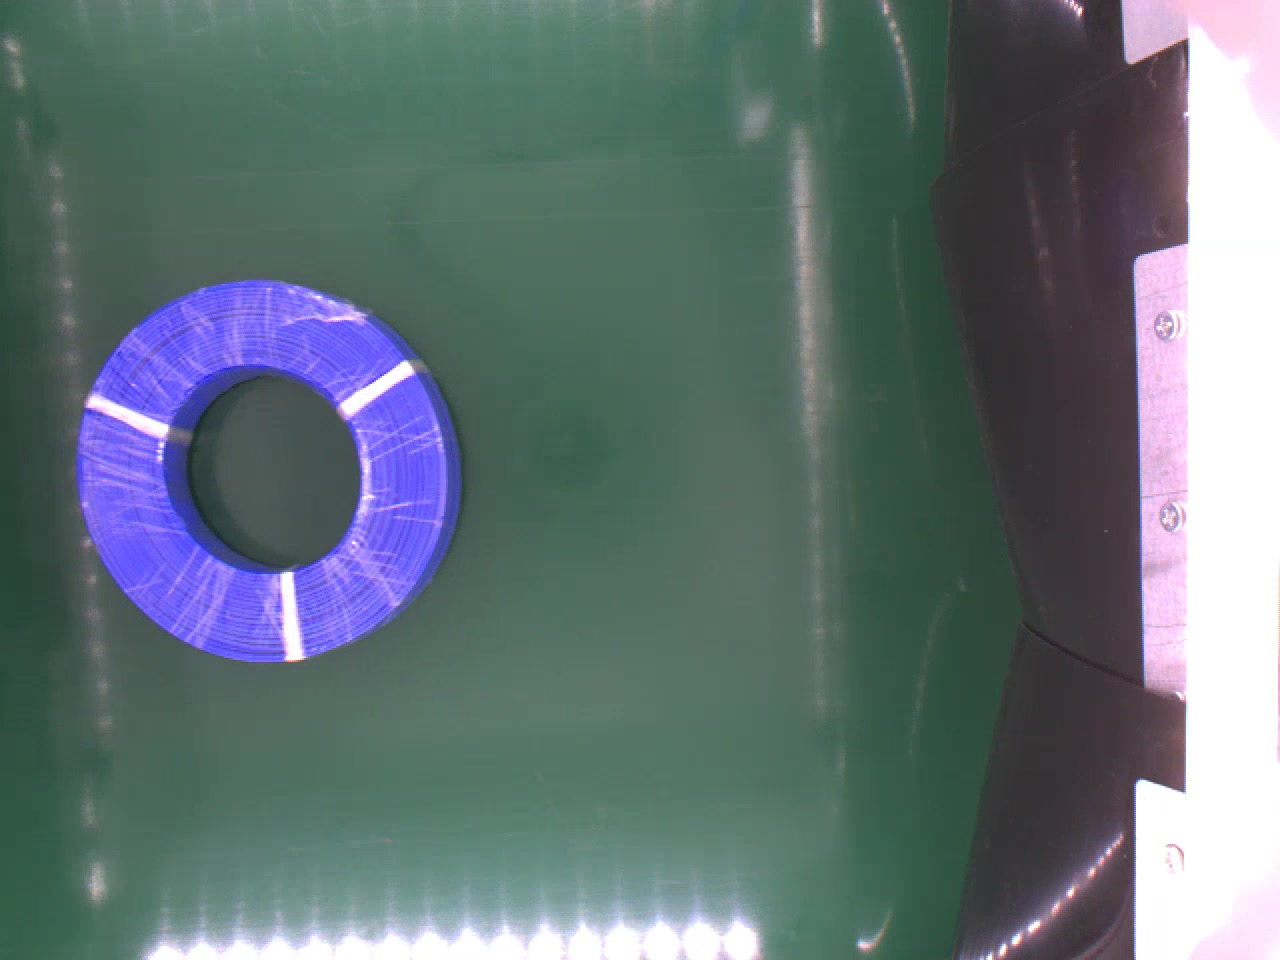blue: (80, 281, 462, 665)
